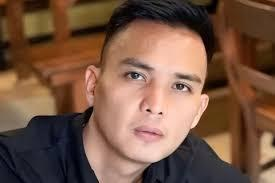Awake: (89, 1, 214, 172)
